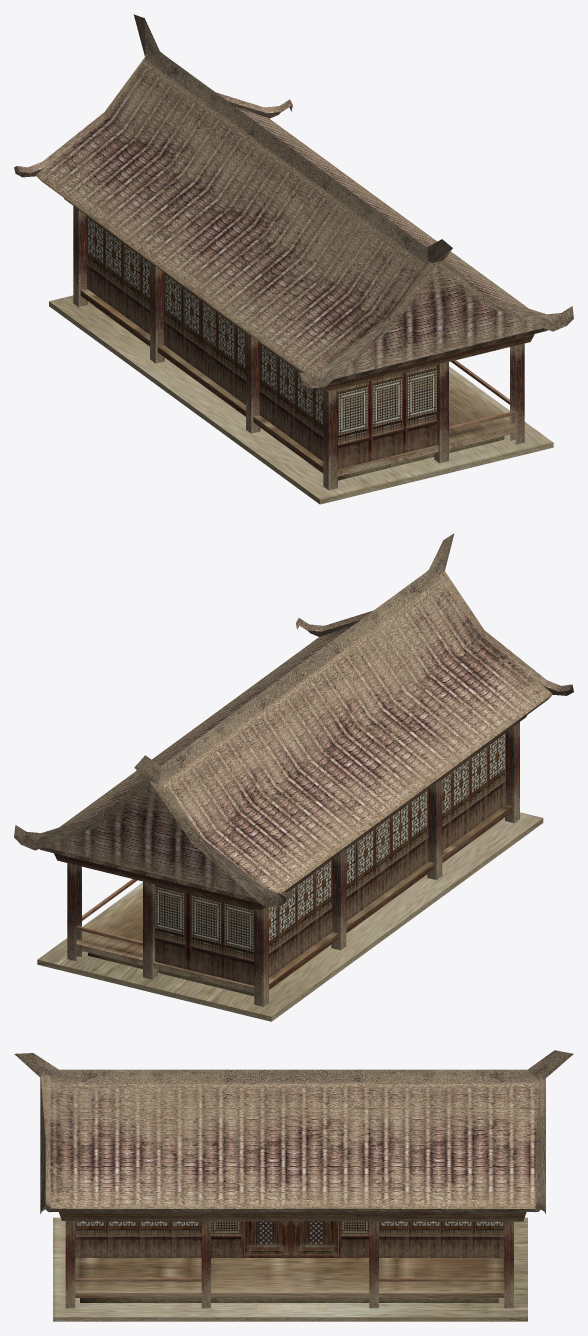
The model's file is desert-033-guesthouse-02_lod_01.fbx.
3 renders of one model, top to bottom at view 1: azimuth 30°, elevation 25°; view 2: azimuth 150°, elevation 25°; view 3: azimuth 270°, elevation 25°, orthographic. The views are drawn at different scales.
Visible parts, largest first — view 1: desert-033-guesthouse-01, desert-033-guesthouse-02; view 2: desert-033-guesthouse-01, desert-033-guesthouse-02; view 3: desert-033-guesthouse-01, desert-033-guesthouse-02.
Part boxes in pixels (box(x1,y1,x2,y2)): desert-033-guesthouse-01: box(14, 14, 573, 480); desert-033-guesthouse-02: box(49, 198, 553, 504); desert-033-guesthouse-01: box(14, 533, 573, 996); desert-033-guesthouse-02: box(37, 715, 543, 1021); desert-033-guesthouse-01: box(14, 1050, 573, 1310); desert-033-guesthouse-02: box(53, 1212, 527, 1321).
Size of the model in its own units: 13.56 by 11.86 by 27.45.
